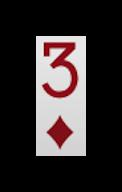3D: (39, 39, 82, 153)
